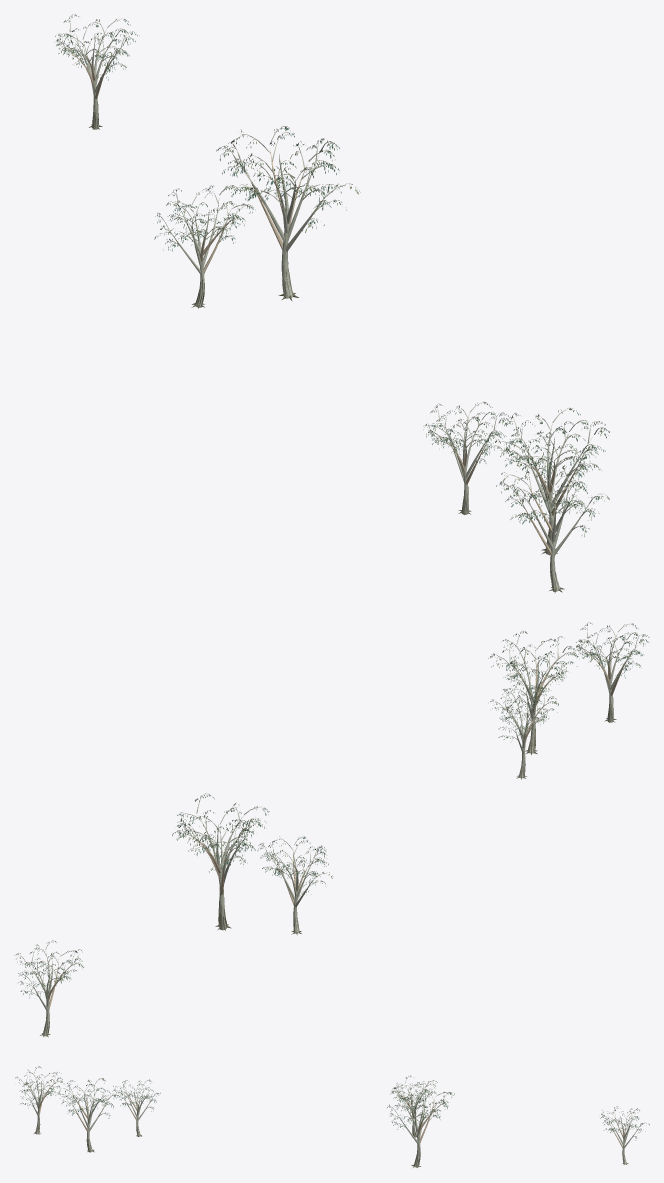
Rendered from ecology-eucalyptus-mid-3.glb.
The picture shows the model from 3 angles, top to bottom: view 1: azimuth 30°, elevation 25°; view 2: azimuth 150°, elevation 25°; view 3: azimuth 270°, elevation 25°; orthographic projection. The views are drawn at different scales.
Visible parts, largest first — view 1: eucalyptus-mid-23, eucalyptus-mid-20, eucalyptus-mid-21, eucalyptus-mid-18, eucalyptus-mid-19, eucalyptus-mid-22; view 2: eucalyptus-mid-23, eucalyptus-mid-20, eucalyptus-mid-21, eucalyptus-mid-18, eucalyptus-mid-22, eucalyptus-mid-19; view 3: eucalyptus-mid-23, eucalyptus-mid-20, eucalyptus-mid-21, eucalyptus-mid-19, eucalyptus-mid-22, eucalyptus-mid-18.
Boxes of the visible parts, x1=… form: eucalyptus-mid-23: x1=216, y1=126, x2=360, y2=301; eucalyptus-mid-20: x1=494, y1=407, x2=609, y2=555; eucalyptus-mid-21: x1=496, y1=462, x2=609, y2=593; eucalyptus-mid-18: x1=154, y1=185, x2=253, y2=308; eucalyptus-mid-19: x1=423, y1=402, x2=510, y2=514; eucalyptus-mid-22: x1=54, y1=14, x2=137, y2=129; eucalyptus-mid-23: x1=172, y1=793, x2=269, y2=930; eucalyptus-mid-20: x1=488, y1=631, x2=578, y2=755; eucalyptus-mid-21: x1=574, y1=622, x2=649, y2=722; eucalyptus-mid-18: x1=257, y1=836, x2=332, y2=935; eucalyptus-mid-22: x1=14, y1=940, x2=83, y2=1037; eucalyptus-mid-19: x1=490, y1=683, x2=558, y2=779; eucalyptus-mid-23: x1=387, y1=1080, x2=454, y2=1167; eucalyptus-mid-20: x1=55, y1=1078, x2=117, y2=1152; eucalyptus-mid-21: x1=15, y1=1066, x2=64, y2=1134; eucalyptus-mid-19: x1=112, y1=1079, x2=160, y2=1136; eucalyptus-mid-22: x1=600, y1=1106, x2=649, y2=1164; eucalyptus-mid-18: x1=390, y1=1075, x2=435, y2=1137.
Bounding box in the file's own units: 22.44 × 15.94 × 117.
